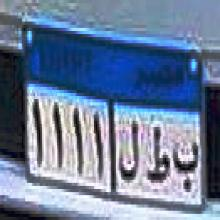1: (72, 108, 84, 172), (33, 97, 43, 168), (53, 105, 63, 169), (93, 117, 104, 174)
Taa: (146, 127, 170, 186)
baa: (174, 138, 198, 194)
laam: (120, 120, 139, 184)
